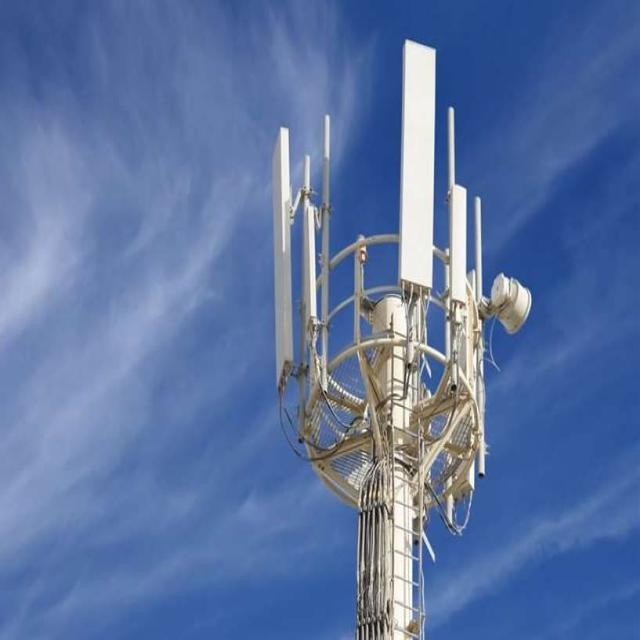GSM Antenna: (396, 31, 442, 308), (264, 125, 296, 378), (448, 170, 477, 317), (304, 199, 324, 334)
Microwave Antenna: (491, 266, 534, 344)
